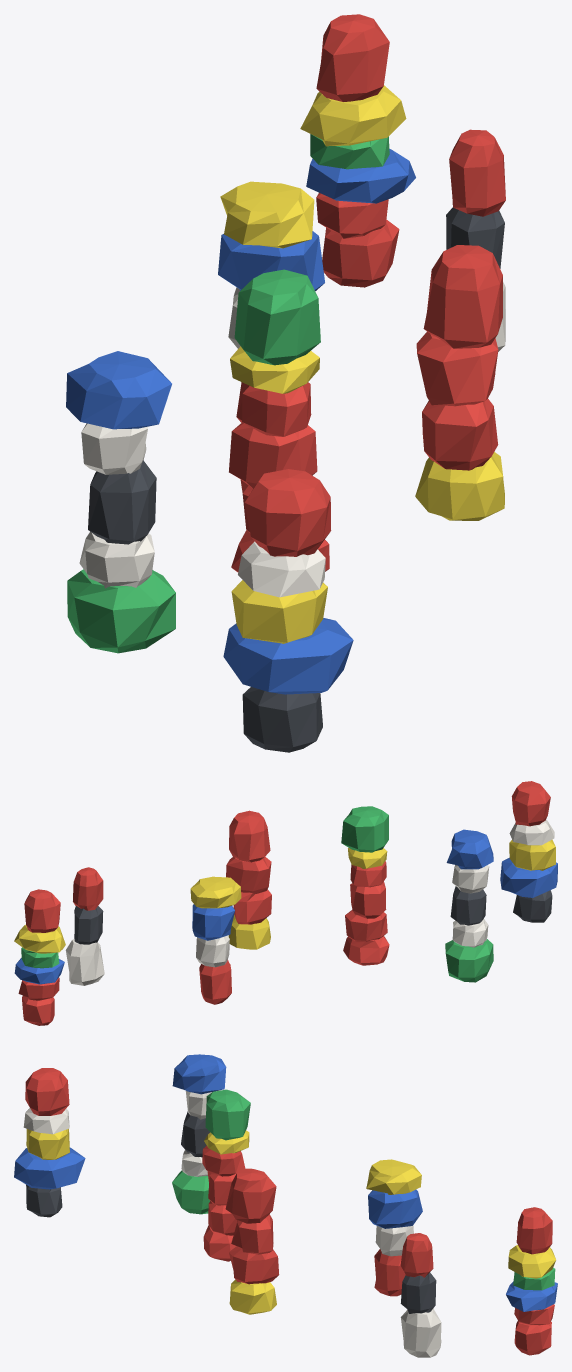
The model's file is detail.glb.
3 views of the same model, one above another, from view 1: azimuth 30°, elevation 25°; view 2: azimuth 150°, elevation 25°; view 3: azimuth 270°, elevation 25° (orthographic). The views are drawn at different scales.
Visible parts, largest first — view 1: seven-magic-mountains; view 2: seven-magic-mountains; view 3: seven-magic-mountains.
Boxes of the visible parts, x1,y1,x2,y2 form: seven-magic-mountains: [66, 14, 505, 752]; seven-magic-mountains: [14, 781, 557, 1025]; seven-magic-mountains: [14, 1054, 557, 1357].
Bounding box in the file's own units: 24.46 × 10.8 × 33.66.
